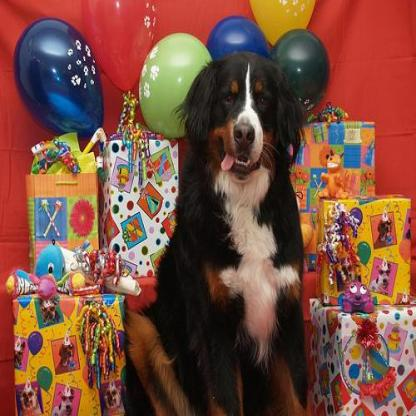Bernese_mountain_dog: (121, 50, 318, 414)
